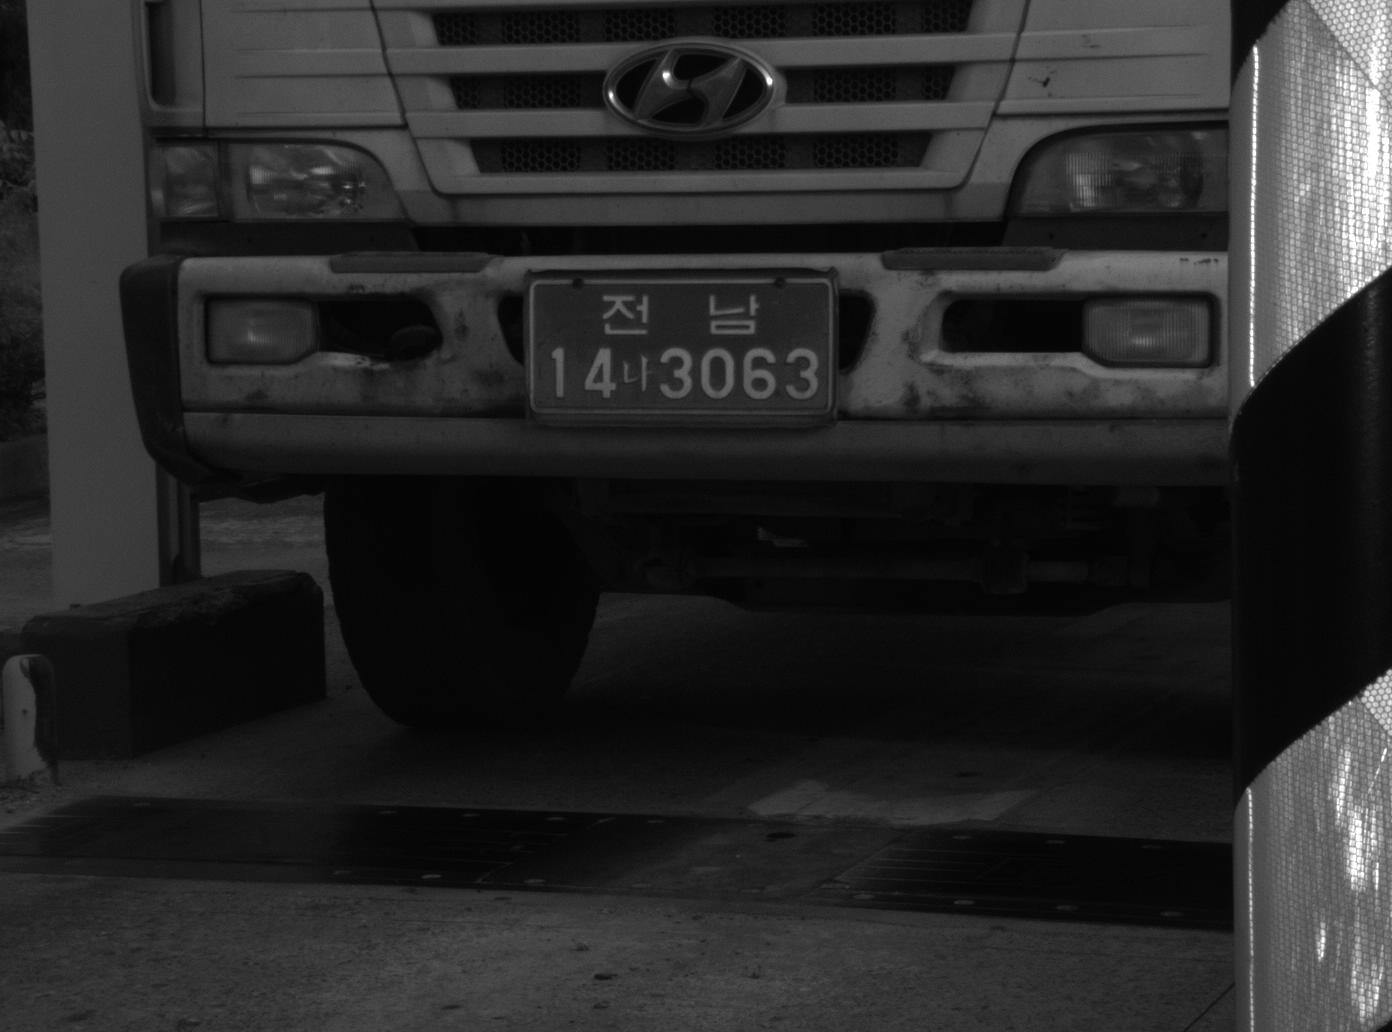car: (119, 1, 1390, 740)
plate: (521, 268, 836, 419)
